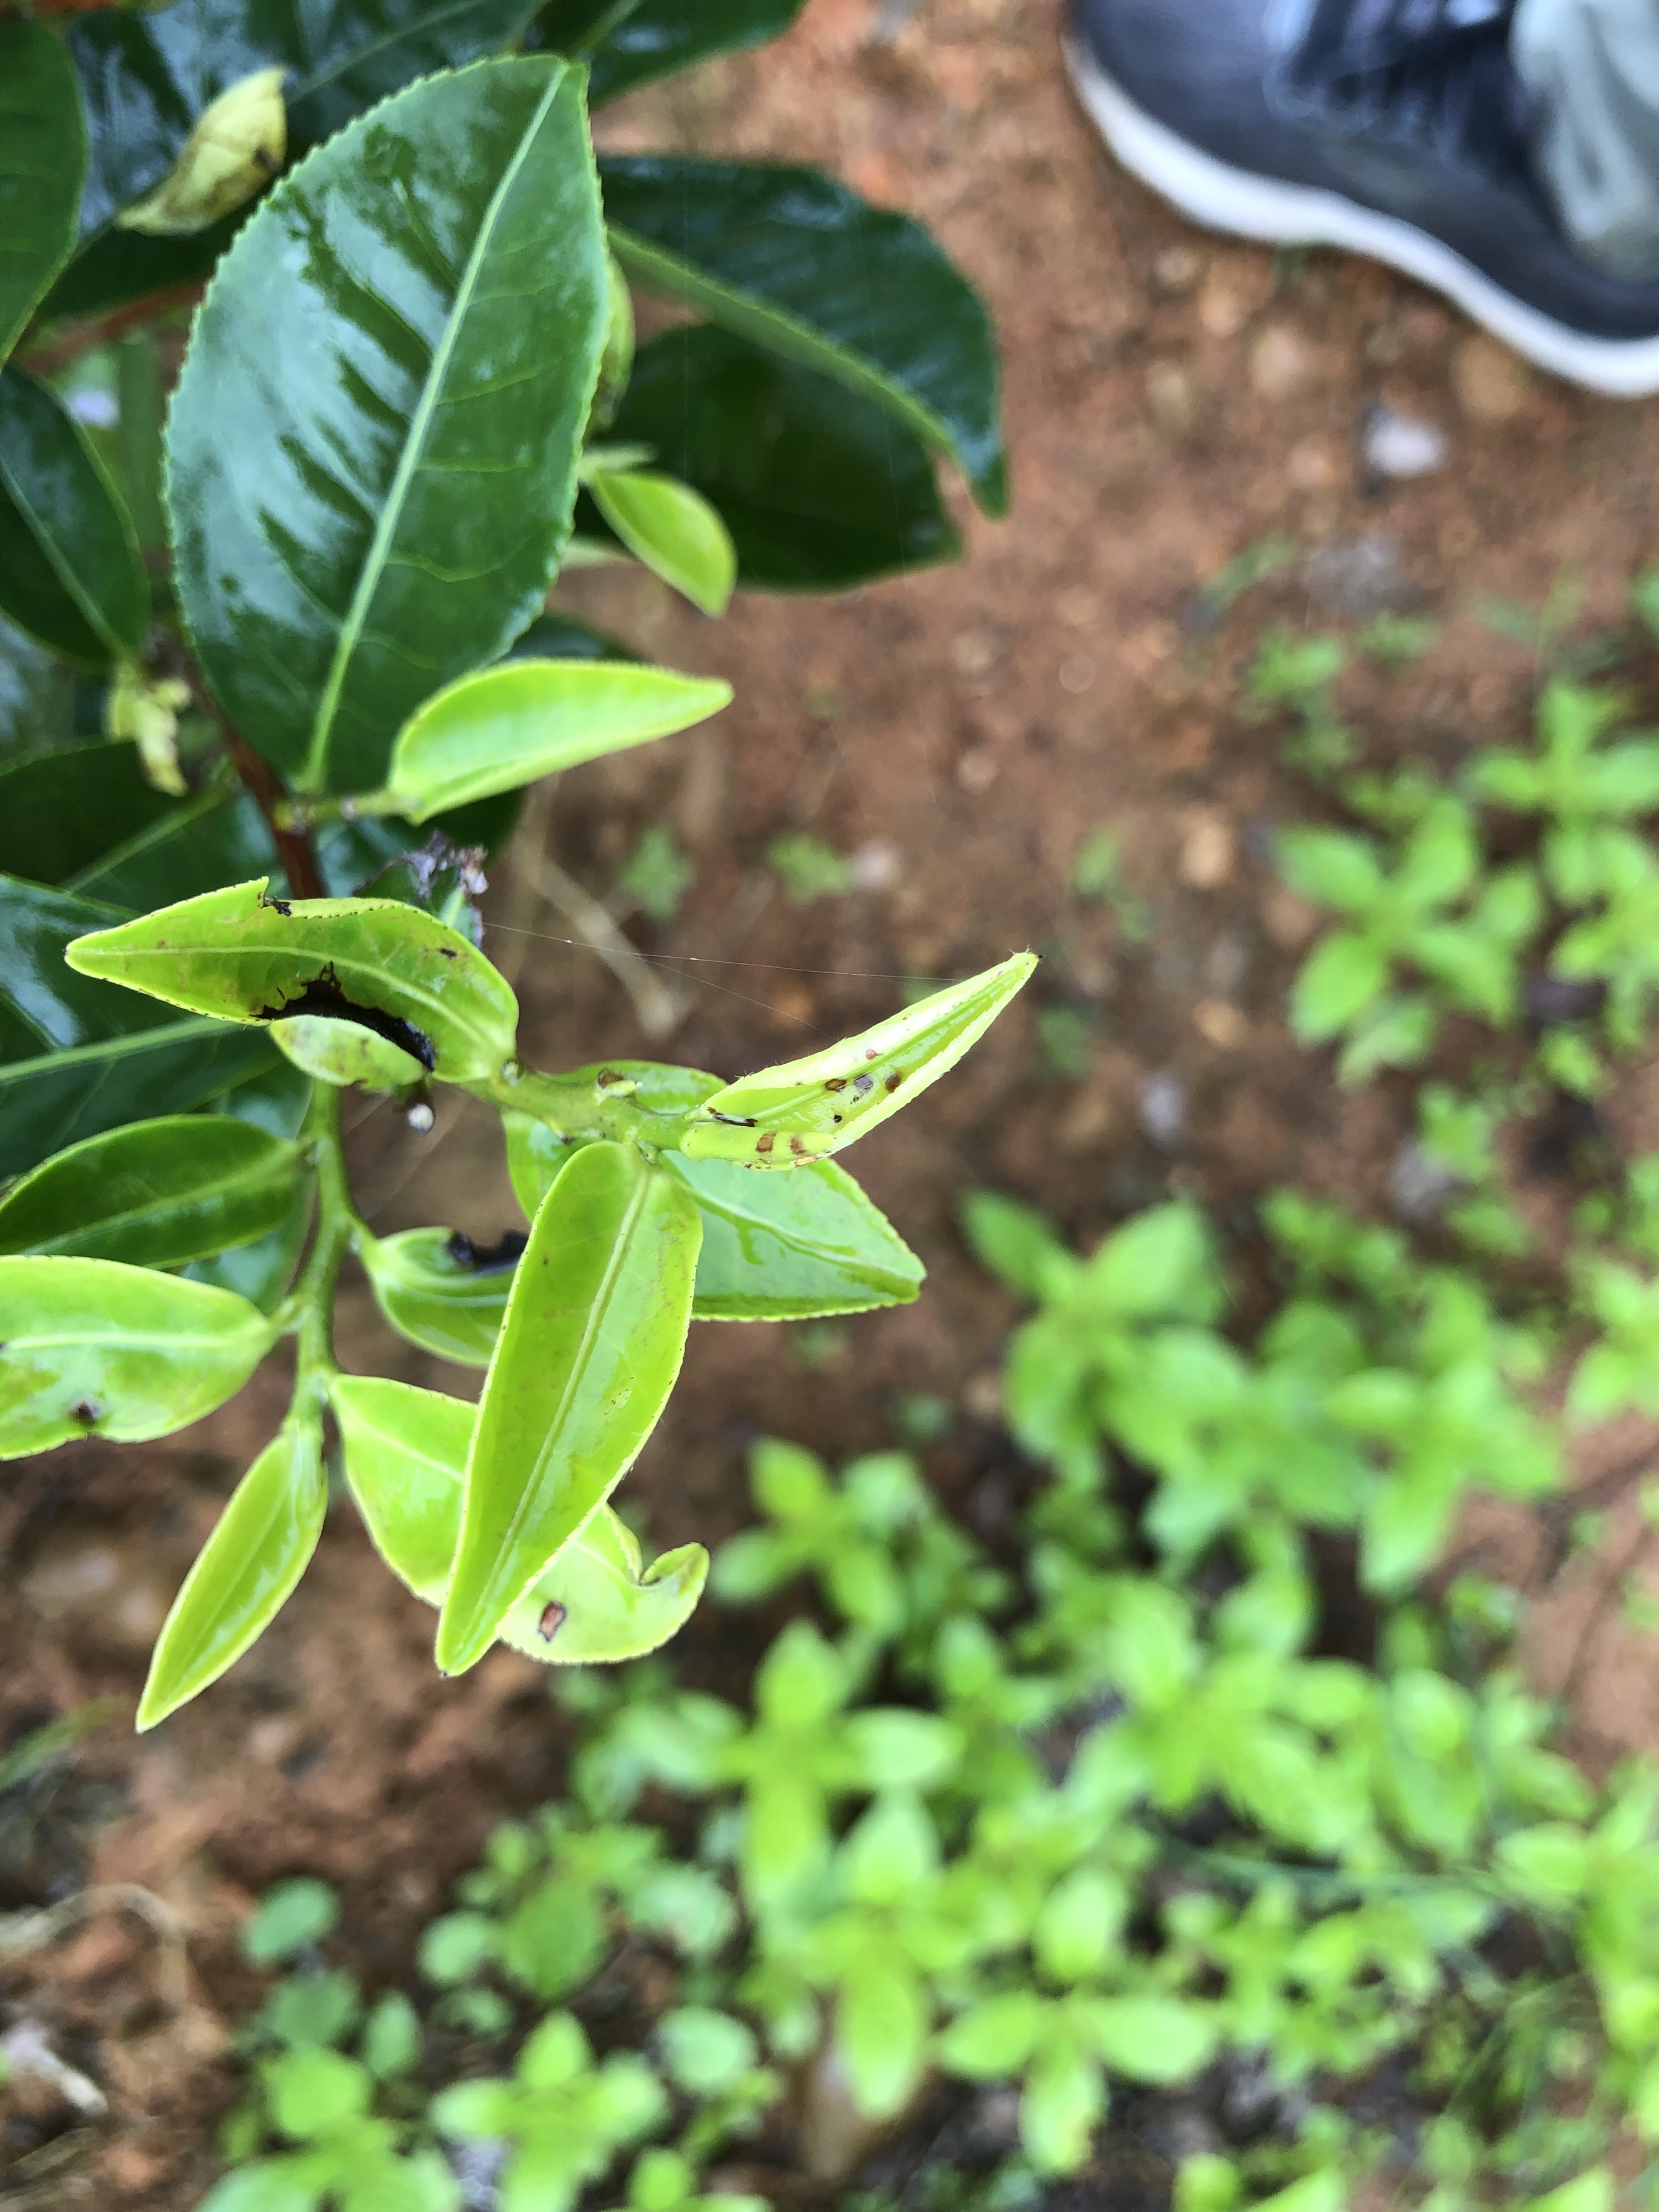formosa: (446, 1132, 706, 1632)
tortrix: (697, 960, 1040, 1174)
